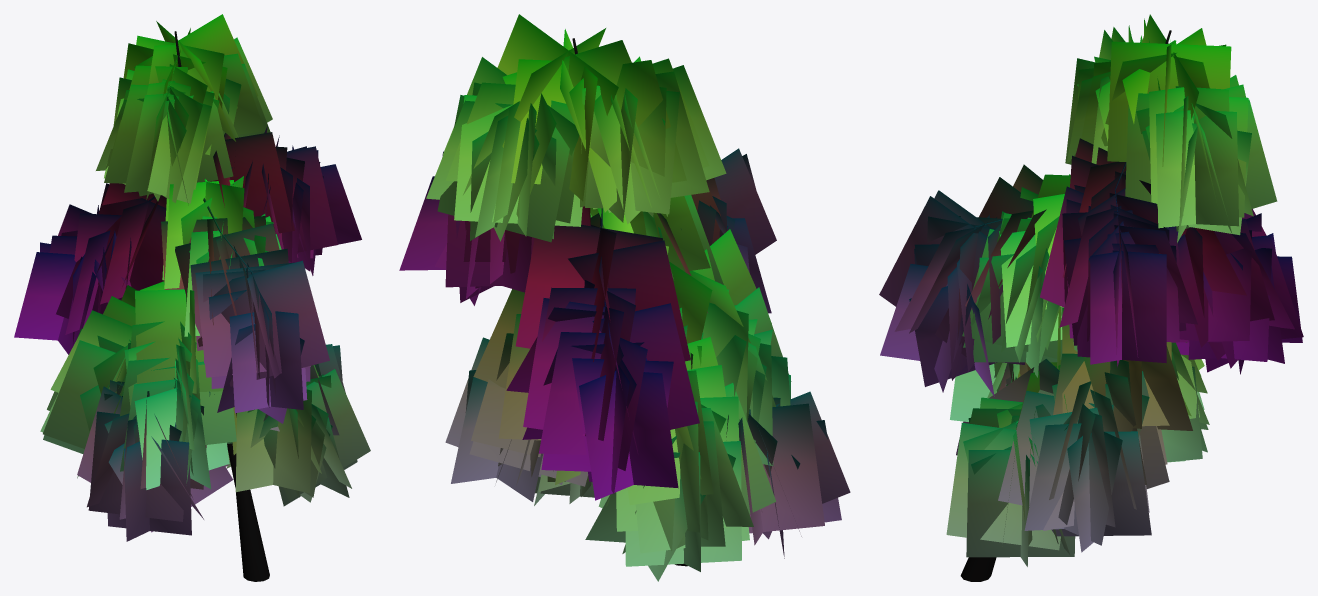
The model's file is URP_P13_Tree_10_LOD_2.fbx.
The picture shows the model from 3 angles, left to right: view 1: azimuth 30°, elevation 25°; view 2: azimuth 150°, elevation 25°; view 3: azimuth 270°, elevation 25°; orthographic projection. The views are drawn at different scales.
Parts seen in each view (by area): view 1: Tree_10_LOD_2; view 2: Tree_10_LOD_2; view 3: Tree_10_LOD_2.
Part boxes in pixels (x1,y1,x2,y2): Tree_10_LOD_2: (14, 14, 370, 581); Tree_10_LOD_2: (399, 14, 850, 581); Tree_10_LOD_2: (879, 14, 1303, 581).
Size of the model in its own units: 366 by 575 by 398.
